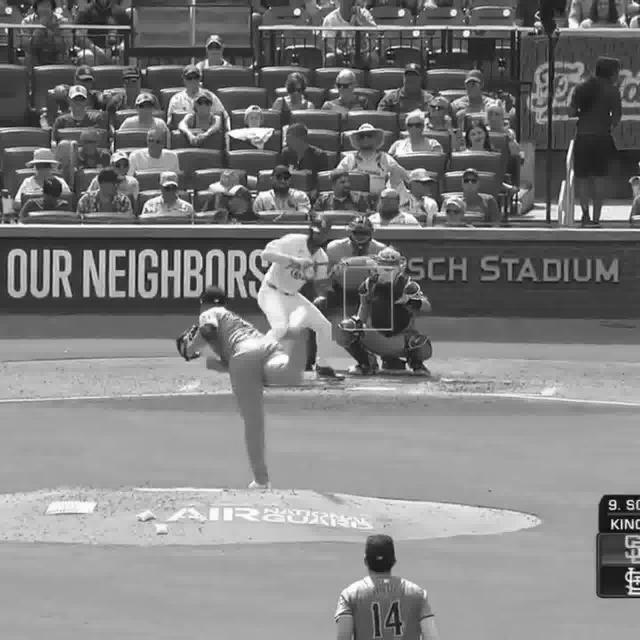base: (348, 384, 398, 391)
baseball: (364, 259, 376, 269)
baseball_glove: (373, 300, 408, 331), (178, 327, 197, 362)
bat: (306, 254, 372, 268)
shoe: (282, 318, 303, 344), (350, 360, 381, 376), (312, 370, 344, 380), (249, 478, 272, 490), (411, 365, 429, 376)
